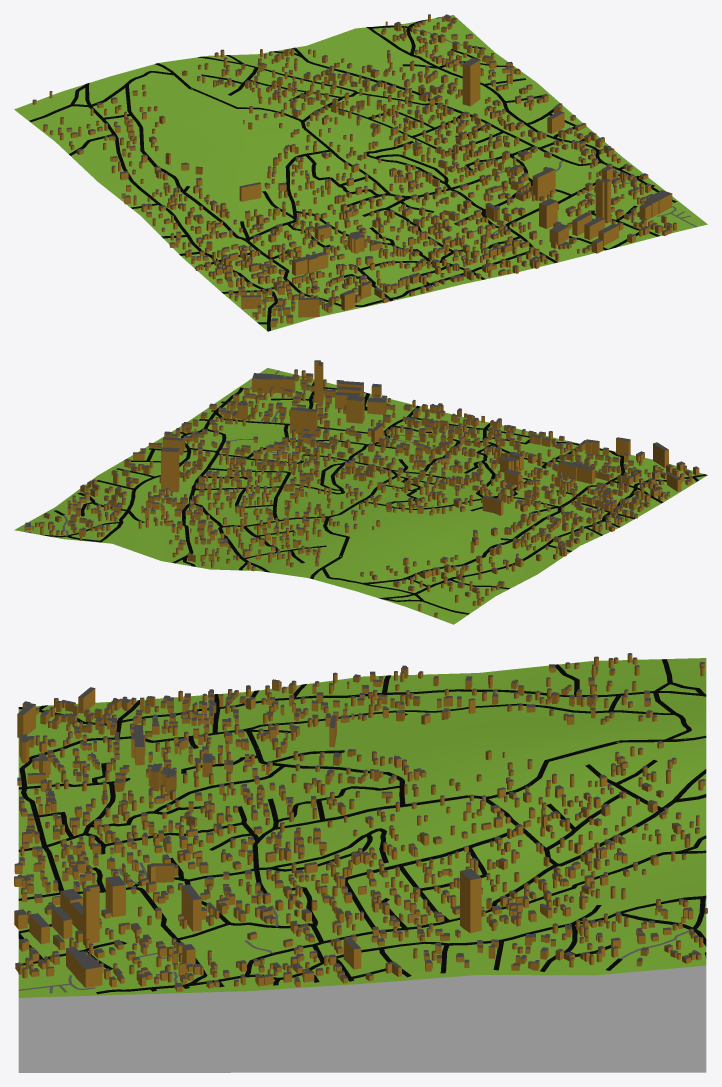
File: tile_11_06.glb
3 renders of one model, top to bottom at view 1: azimuth 30°, elevation 25°; view 2: azimuth 150°, elevation 25°; view 3: azimuth 270°, elevation 25°, orthographic. The views are drawn at different scales.
Parts seen in each view (by area): view 1: Terrain_11_06, Ub_small.osm_buildings_11_06, Ub_small.osm_roads_residential_11_06; view 2: Terrain_11_06, Ub_small.osm_buildings_11_06, Ub_small.osm_roads_residential_11_06; view 3: Terrain_11_06, Ub_small.osm_buildings_11_06, Ub_small.osm_roads_residential_11_06, Ub_small.osm_roads_service_11_06.
Part boxes in pixels (x1=…): Terrain_11_06: x1=14, y1=15, x2=707, y2=330; Ub_small.osm_buildings_11_06: x1=32, y1=14, x2=676, y2=327; Ub_small.osm_roads_residential_11_06: x1=29, y1=16, x2=676, y2=331; Terrain_11_06: x1=14, y1=368, x2=707, y2=624; Ub_small.osm_buildings_11_06: x1=24, y1=360, x2=699, y2=617; Ub_small.osm_roads_residential_11_06: x1=24, y1=381, x2=707, y2=614; Terrain_11_06: x1=18, y1=658, x2=706, y2=1072; Ub_small.osm_buildings_11_06: x1=14, y1=653, x2=707, y2=991; Ub_small.osm_roads_residential_11_06: x1=18, y1=659, x2=706, y2=994; Ub_small.osm_roads_service_11_06: x1=18, y1=862, x2=689, y2=993.
Size of the model in its own units: 935 by 228 by 939.
